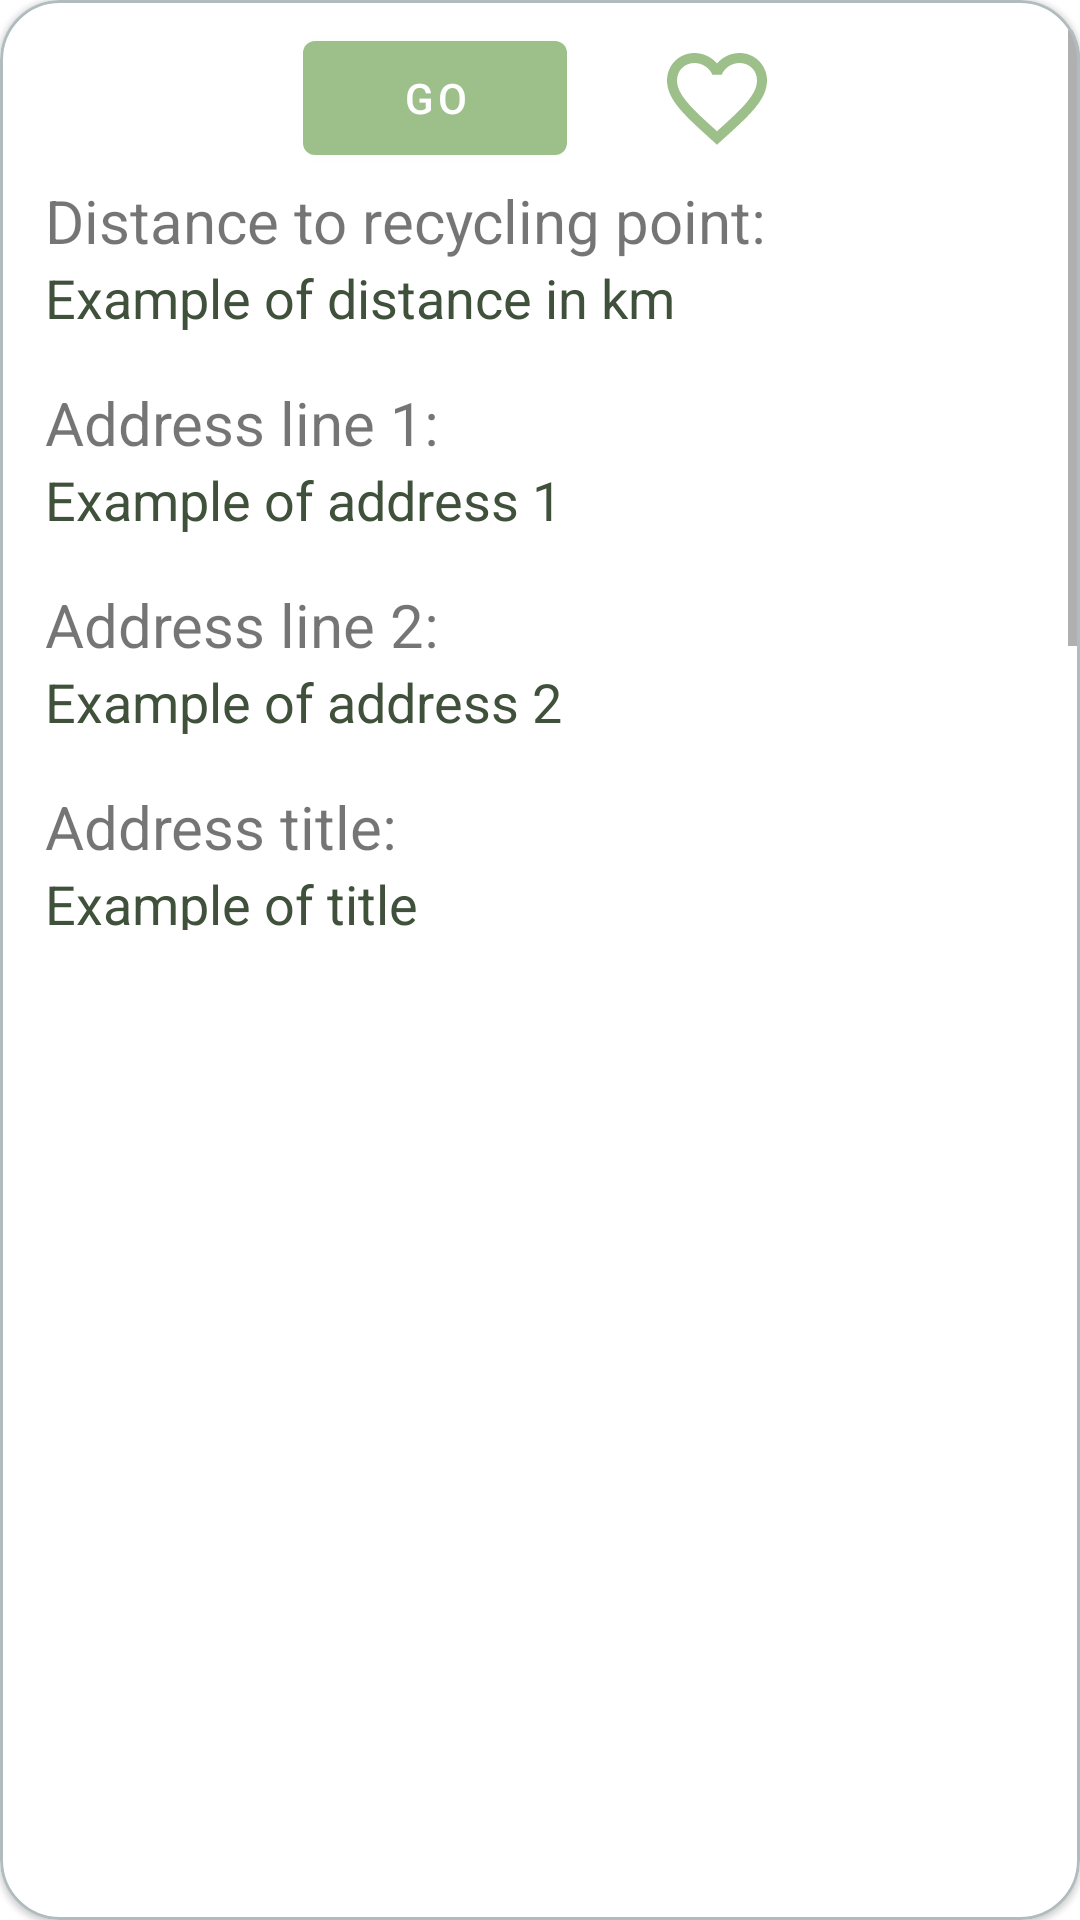

Icon bounding boxes for this 1080x1920 phone screenshot, format (x1, y1, x2, y2):
unfav: (667, 53, 767, 145)
